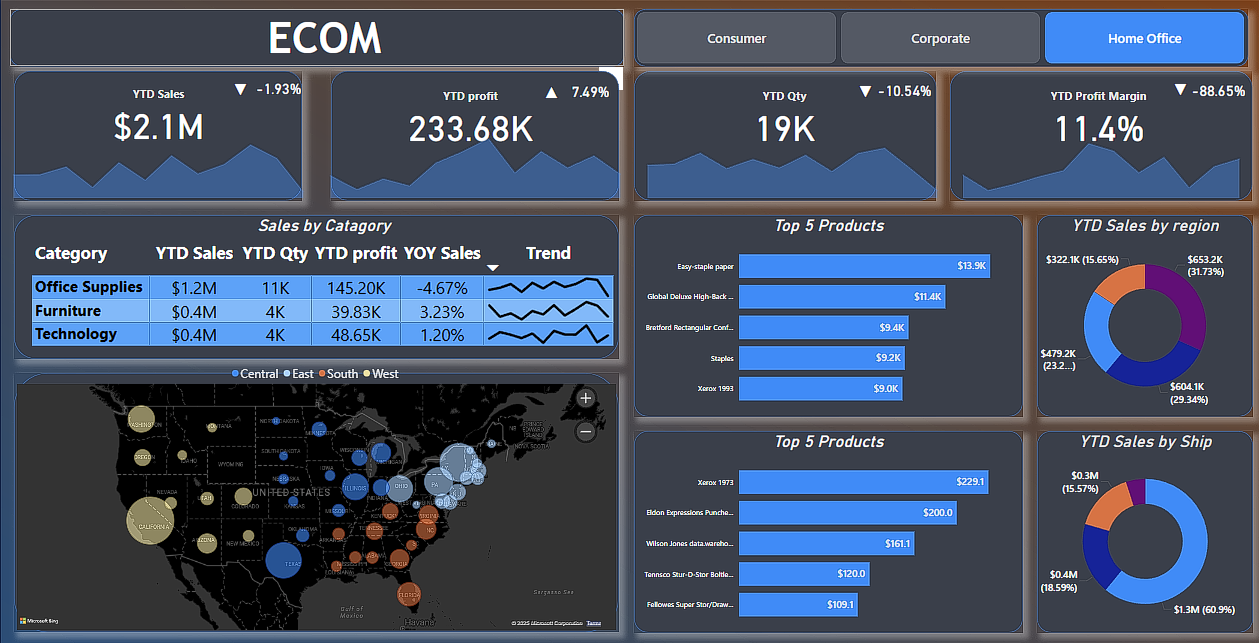

Layout of this report page (visuals, bound fields, positions):
{"tool":"powerbi","page":{"name":"Page 1","canvas":[2100,1080],"ordinal":0},"visuals":[{"type":"shape","box":[16,16,1024,96],"z":0},{"type":"textbox","box":[384,16,336,112],"z":1000},{"type":"shape","box":[24,120,480,216],"z":2000},{"type":"cardVisual","fields":{"Data":["_Measures.YTD Sales"]},"box":[128,128,272,128],"z":3000},{"type":"areaChart","fields":{"Category":["Calendar.Month"],"Y":["Sum(ecommerce_data.sales_per_order)"]},"box":[0,216,528,120],"z":4000},{"type":"cardVisual","fields":{"Data":["_Measures.YOY Sales"]},"box":[400,112,128,64],"z":5000},{"type":"cardVisual","fields":{"Data":["_Measures.Sales Icon"]},"box":[336,112,128,64],"z":6000},{"type":"shape","box":[552,120,480,216],"z":7000},{"type":"cardVisual","fields":{"Data":["_Measures.YTD profit"]},"box":[647.7,132.3,272,128],"z":8000},{"type":"areaChart","fields":{"Category":["Calendar.Month"],"Y":["Sum(ecommerce_data.profit_per_order)"]},"box":[528,216,528,120],"z":9000},{"type":"cardVisual","fields":{"Data":["_Measures.YOY Profit"]},"box":[919.7,116.3,128,64],"z":10000},{"type":"cardVisual","fields":{"Data":["_Measures.Profit Icon"]},"box":[855.7,116.3,128,64],"z":11000},{"type":"shape","box":[1056,120,504,216],"z":12000},{"type":"cardVisual","fields":{"Data":["_Measures.YTD Qty"]},"box":[1171,131.7,272,128],"z":13000},{"type":"areaChart","fields":{"Category":["Calendar.Month"],"Y":["Sum(ecommerce_data.order_quantity)"]},"box":[1056,216,528,120],"z":14000},{"type":"cardVisual","fields":{"Data":["_Measures.YOY Qty"]},"box":[1443,115.7,128,64],"z":15000},{"type":"cardVisual","fields":{"Data":["_Measures.Qty Icon"]},"box":[1379,115.7,128,64],"z":16000},{"type":"shape","box":[1584,120,504,216],"z":17000},{"type":"cardVisual","fields":{"Data":["_Measures.YTD Profit Margin"]},"box":[1694.3,131.7,272,128],"z":18000},{"type":"areaChart","fields":{"Category":["Calendar.Month"],"Y":["_Measures.Profit Margin"]},"box":[1584,216,504,120],"z":19000},{"type":"cardVisual","fields":{"Data":["_Measures.YoY Profit Margin"]},"box":[1966.3,115.7,128,64],"z":20000},{"type":"cardVisual","fields":{"Data":["_Measures.Profit Margin Icon"]},"box":[1904,112,128,64],"z":21000},{"type":"shape","box":[24,360,1008,240],"z":22000},{"type":"pivotTable","title":"Sales by Catagory","fields":{"Rows":["ecommerce_data.category_name"],"Values":["_Measures.YTD Sales","_Measures.YTD Qty","_Measures.YTD profit","_Measures.YOY Sales","SparklineData(Sum(ecommerce_data.sales_per_order)_[Calendar.Month])"]},"box":[48,360,984,240],"z":23000},{"type":"shape","box":[24,624,1008,432],"z":24000},{"type":"map","fields":{"X":["us_state_long_lat_codes.longitude"],"Y":["us_state_long_lat_codes.latitude"],"Series":["ecommerce_data.customer_region"],"Size":["_Measures.YTD Sales"]},"box":[24,600,1008,456],"z":25000},{"type":"shape","box":[1056,360,648,336],"z":25001},{"type":"shape","box":[1056,720,648,336],"z":25002},{"type":"barChart","title":"Top 5 Products","fields":{"Y":["_Measures.YTD Sales"],"Category":["ecommerce_data.product_name"]},"box":[1056,360,648,336],"z":25003},{"type":"barChart","title":"Top 5 Products","fields":{"Y":["_Measures.YTD Sales"],"Category":["ecommerce_data.product_name"]},"box":[1056,720,648,336],"z":25004},{"type":"shape","box":[1728,360,360,336],"z":25006},{"type":"shape","box":[1728,720,360,336],"z":25007},{"type":"donutChart","title":"YTD Sales by region","fields":{"Category":["ecommerce_data.customer_region"],"Y":["_Measures.YTD Sales"]},"box":[1728,360,360,336],"z":25008},{"type":"donutChart","title":"YTD Sales by Ship","fields":{"Y":["_Measures.YTD Sales"],"Category":["ecommerce_data.shipping_type"]},"box":[1716,720,384,336],"z":25009},{"type":"shape","box":[1056,16,1024,96],"z":25010},{"type":"advancedSlicerVisual","fields":{"Values":["ecommerce_data.customer_segment"]},"box":[1056,16,1024,96],"z":25011}]}

Visuals, with their boxes in screenshot pixels (x1, y1, x2, y2), scaled from the page's 2100x1080 canvas onto the 1259x643 screenshot:
shape: Rect(10, 10, 624, 67)
textbox: Rect(230, 10, 432, 76)
shape: Rect(14, 71, 302, 200)
cardVisual - _Measures.YTD Sales: Rect(77, 76, 240, 152)
areaChart - Calendar.Month x Sum(ecommerce_data.sales_per_order): Rect(0, 129, 317, 200)
cardVisual - _Measures.YOY Sales: Rect(240, 67, 317, 105)
cardVisual - _Measures.Sales Icon: Rect(201, 67, 278, 105)
shape: Rect(331, 71, 619, 200)
cardVisual - _Measures.YTD profit: Rect(388, 79, 551, 155)
areaChart - Calendar.Month x Sum(ecommerce_data.profit_per_order): Rect(317, 129, 633, 200)
cardVisual - _Measures.YOY Profit: Rect(551, 69, 628, 107)
cardVisual - _Measures.Profit Icon: Rect(513, 69, 590, 107)
shape: Rect(633, 71, 935, 200)
cardVisual - _Measures.YTD Qty: Rect(702, 78, 865, 155)
areaChart - Calendar.Month x Sum(ecommerce_data.order_quantity): Rect(633, 129, 950, 200)
cardVisual - _Measures.YOY Qty: Rect(865, 69, 942, 107)
cardVisual - _Measures.Qty Icon: Rect(827, 69, 903, 107)
shape: Rect(950, 71, 1252, 200)
cardVisual - _Measures.YTD Profit Margin: Rect(1016, 78, 1179, 155)
areaChart - Calendar.Month x _Measures.Profit Margin: Rect(950, 129, 1252, 200)
cardVisual - _Measures.YoY Profit Margin: Rect(1179, 69, 1256, 107)
cardVisual - _Measures.Profit Margin Icon: Rect(1141, 67, 1218, 105)
shape: Rect(14, 214, 619, 357)
"Sales by Catagory" pivotTable: Rect(29, 214, 619, 357)
shape: Rect(14, 372, 619, 629)
map - us_state_long_lat_codes.longitude x us_state_long_lat_codes.latitude: Rect(14, 357, 619, 629)
shape: Rect(633, 214, 1022, 414)
shape: Rect(633, 429, 1022, 629)
"Top 5 Products" barChart: Rect(633, 214, 1022, 414)
"Top 5 Products" barChart: Rect(633, 429, 1022, 629)
shape: Rect(1036, 214, 1252, 414)
shape: Rect(1036, 429, 1252, 629)
"YTD Sales by region" donutChart: Rect(1036, 214, 1252, 414)
"YTD Sales by Ship" donutChart: Rect(1029, 429, 1258, 629)
shape: Rect(633, 10, 1247, 67)
advancedSlicerVisual - ecommerce_data.customer_segment: Rect(633, 10, 1247, 67)
